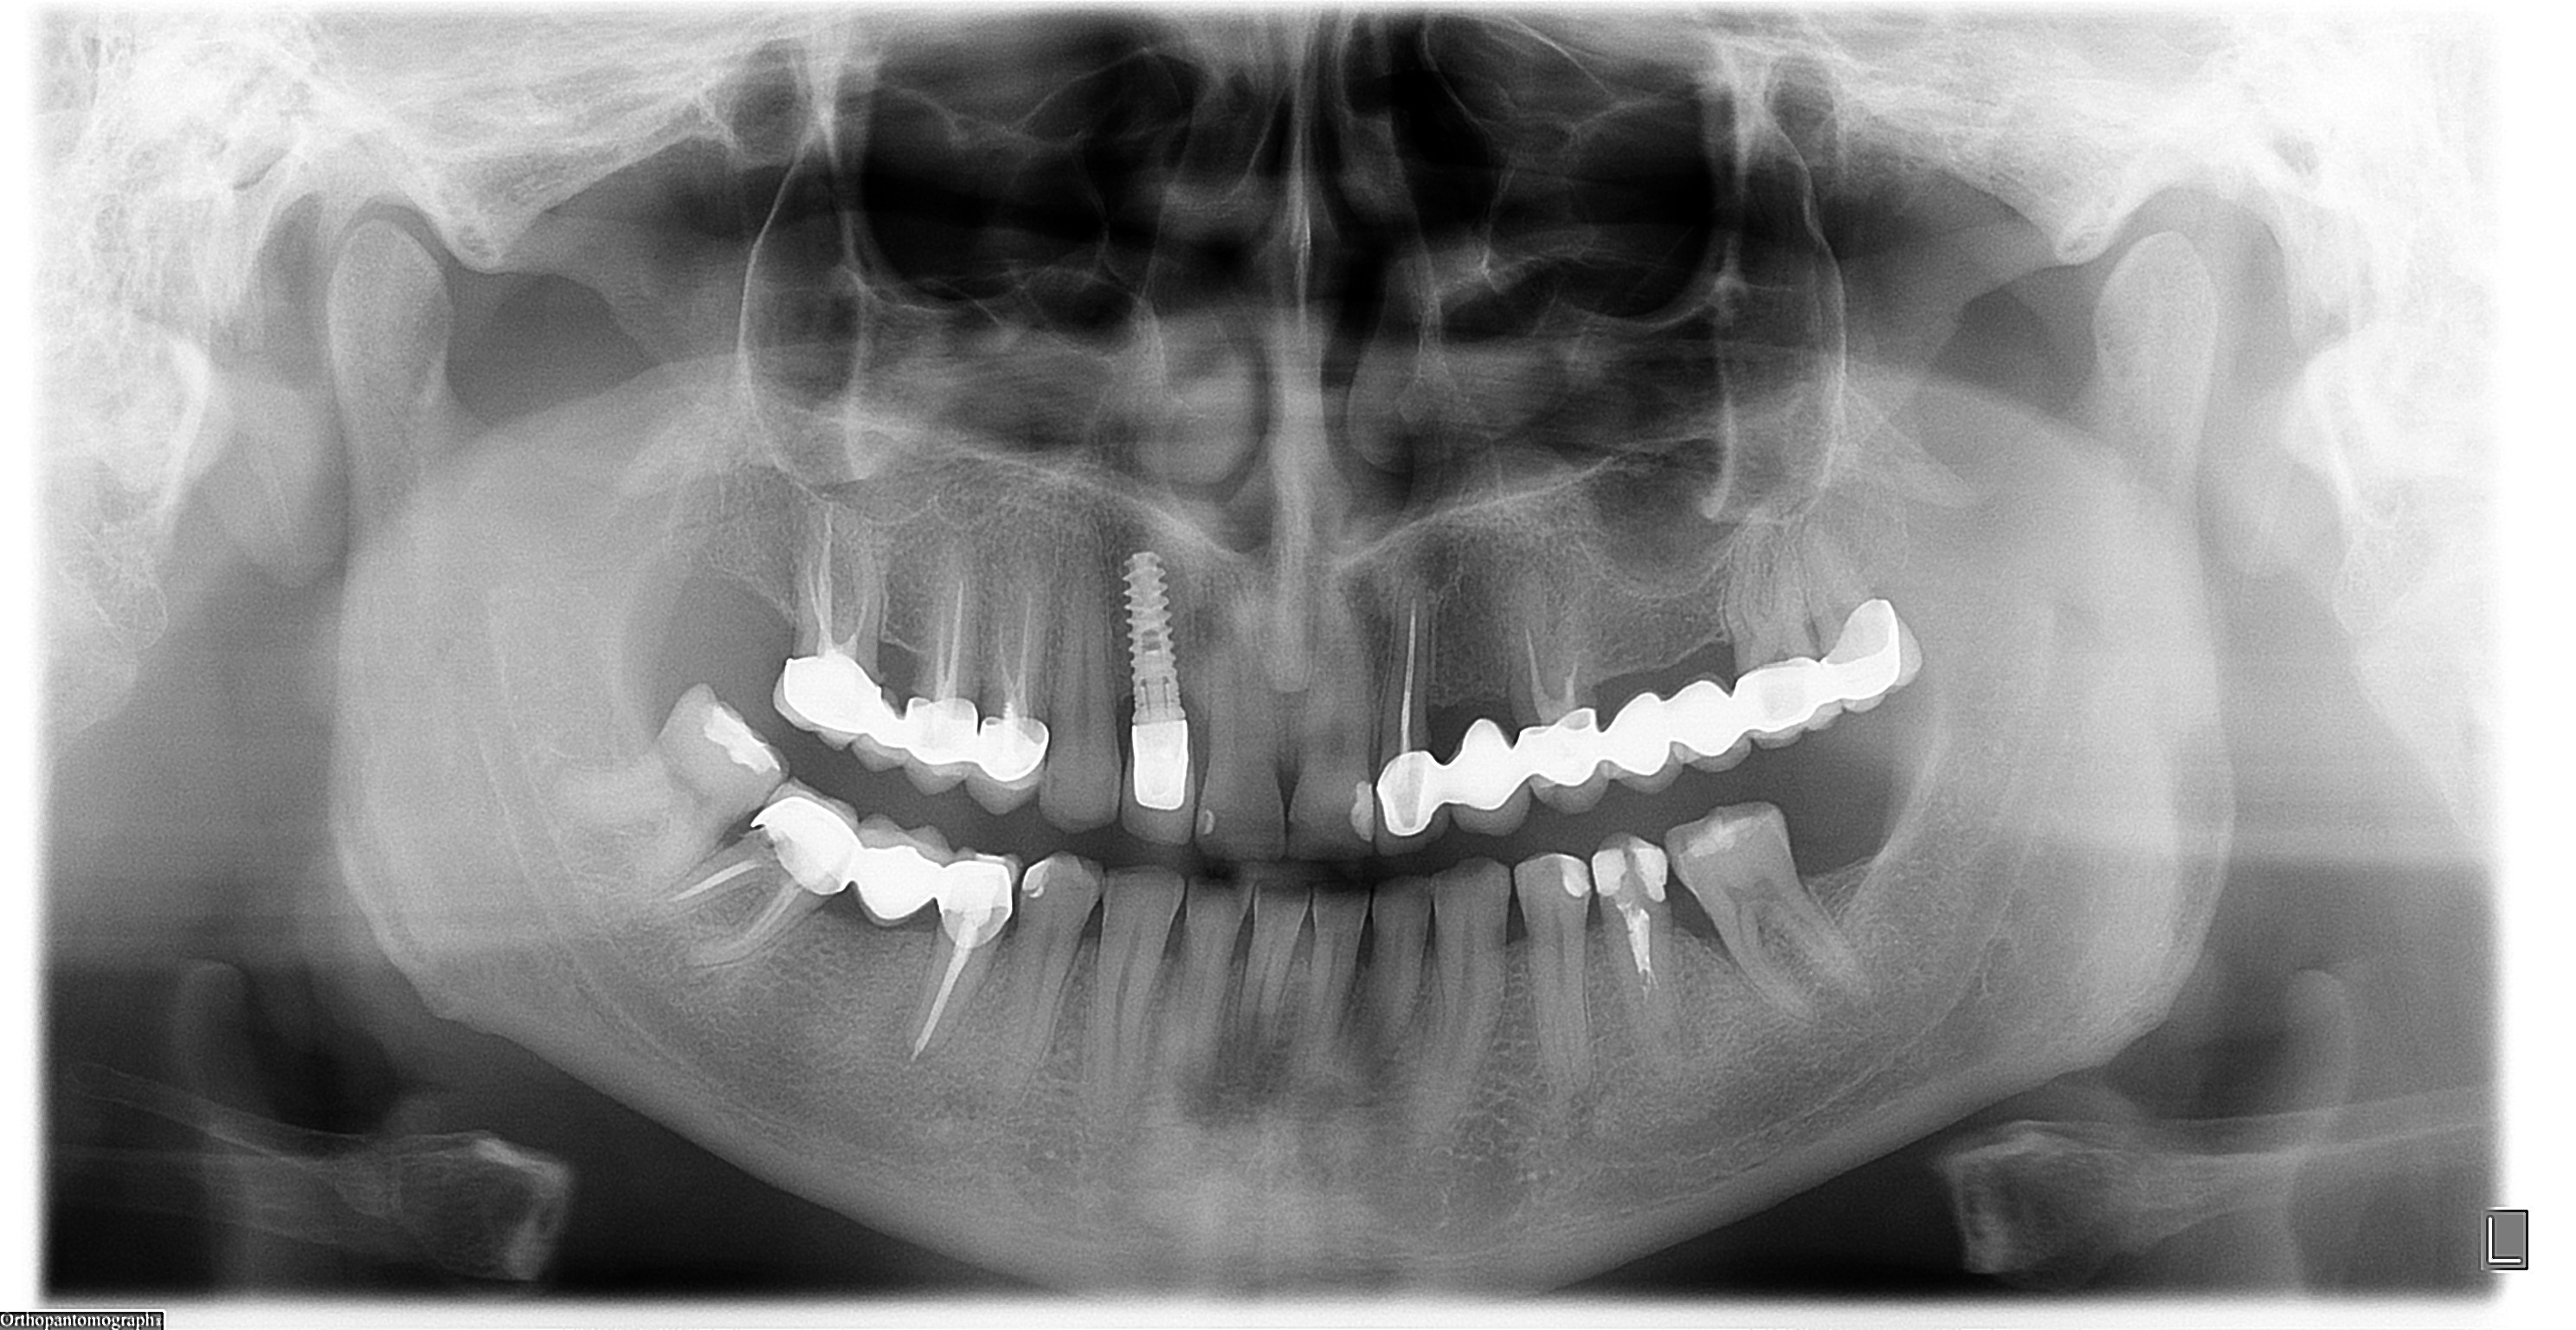BON: (1669, 908, 1772, 999)
END: (643, 843, 797, 969), (795, 502, 899, 653), (1501, 616, 1592, 728), (985, 556, 1048, 718), (1380, 585, 1440, 753), (904, 938, 972, 1069), (917, 558, 975, 692), (1608, 894, 1662, 1033)
IMP: (1109, 539, 1180, 726)
OBT: (695, 685, 782, 797), (999, 836, 1085, 916), (1330, 768, 1396, 847), (1575, 826, 1647, 894), (1677, 807, 1774, 857), (1620, 830, 1681, 897), (1535, 840, 1591, 906), (1184, 792, 1231, 850)
PRR: (1352, 590, 1940, 867), (739, 765, 1014, 986), (772, 655, 1055, 828), (1096, 718, 1226, 838)
